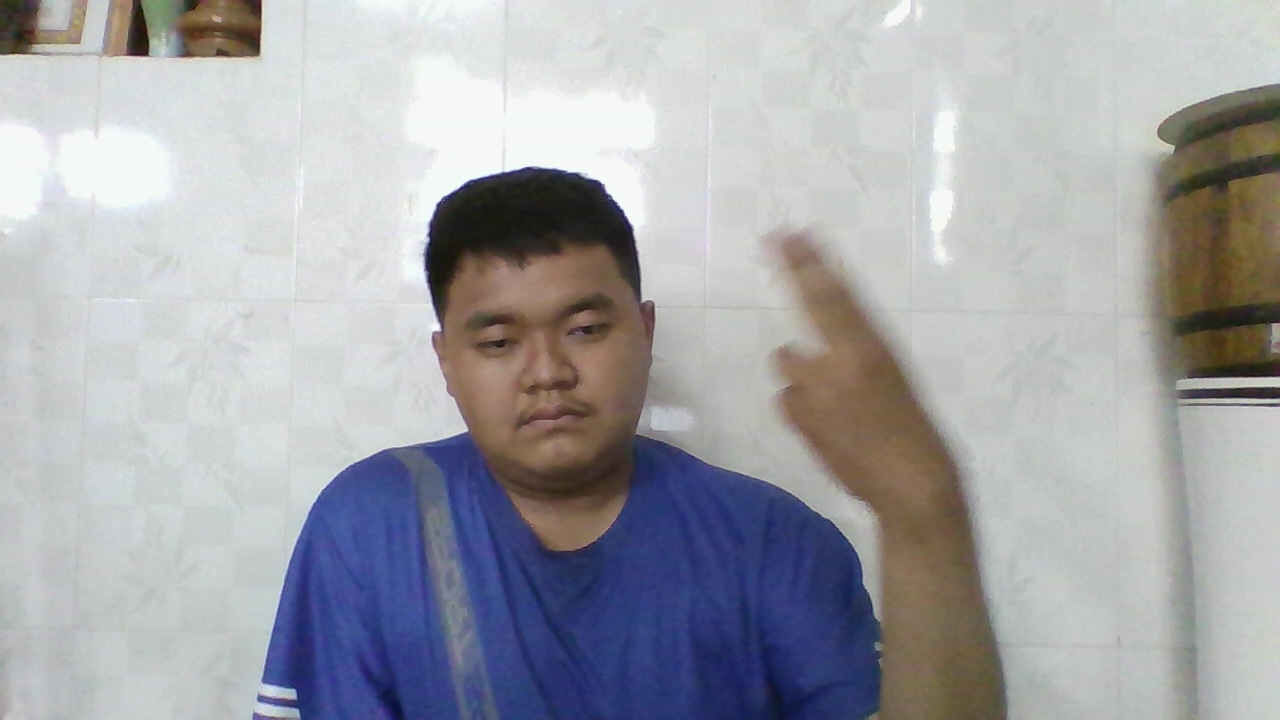U: (761, 227, 935, 502)
